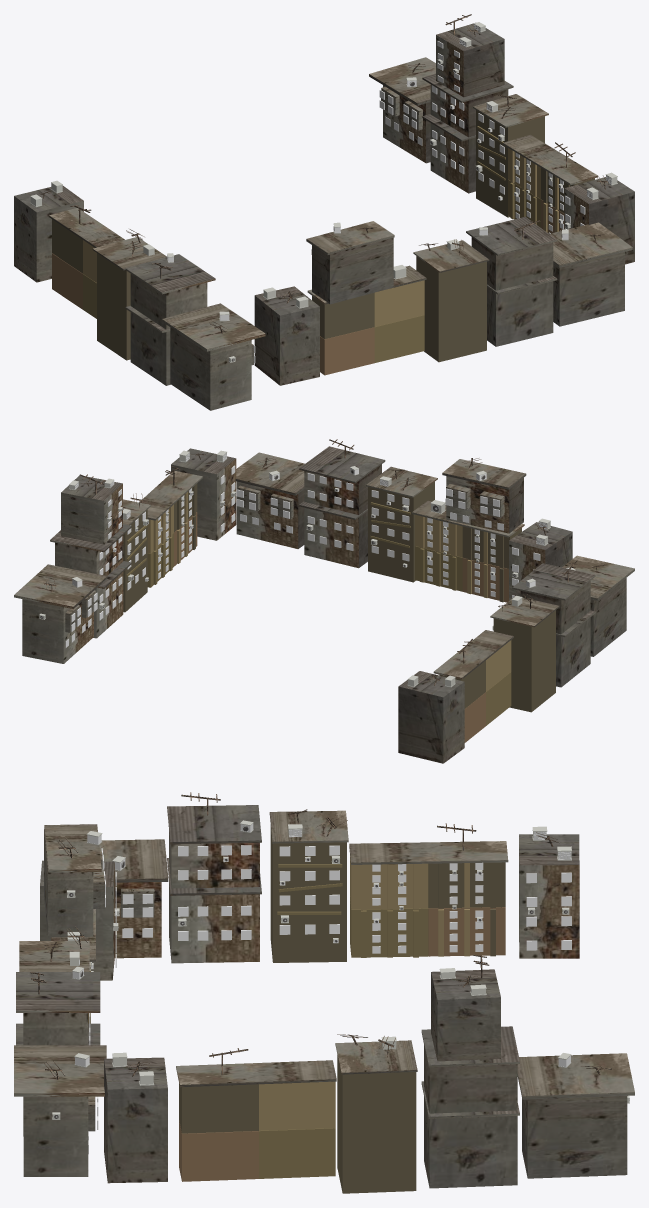
File: Buildings.glb
The picture shows the model from 3 angles, top to bottom: view 1: azimuth 30°, elevation 25°; view 2: azimuth 150°, elevation 25°; view 3: azimuth 270°, elevation 25°; orthographic projection. The views are drawn at different scales.
Parts seen in each view (by area): view 1: Cube.153, Cube.070, Cube.109, Cube.179, Cube.178, Cube.015, Cube.573, Cube.528, Cube.177, Cube.354, Cube.353, Cube.176 (+22 smaller); view 2: Cube.177, Cube.153, Cube.176, Cube.070, Cube.353, Cube.528, Cube.355, Cube.178, Cube.354, Cube.015, Cube.109, Cube.513 (+24 smaller); view 3: Cube.354, Cube.352, Cube.178, Cube.355, Cube.353, Cube.176, Cube.177, Cube.528, Cube.015, Cube.513, Cube.018, Cube.358 (+24 smaller).
Part boxes in pixels (x1,y1,x2,y2): Cube.153: [471, 237, 553, 346]; Cube.070: [416, 256, 486, 362]; Cube.109: [254, 286, 319, 385]; Cube.179: [170, 327, 251, 410]; Cube.178: [130, 274, 207, 385]; Cube.015: [553, 252, 624, 326]; Cube.573: [312, 237, 393, 304]; Cube.528: [436, 22, 504, 97]; Cube.177: [14, 185, 83, 282]; Cube.354: [430, 84, 508, 193]; Cube.353: [564, 177, 634, 264]; Cube.176: [97, 253, 130, 360]; Cube.177: [398, 671, 464, 763]; Cube.153: [304, 464, 381, 568]; Cube.176: [493, 610, 555, 712]; Cube.070: [368, 482, 434, 582]; Cube.353: [171, 448, 236, 540]; Cube.528: [61, 475, 122, 544]; Cube.355: [22, 599, 93, 663]; Cube.178: [520, 581, 590, 687]; Cube.354: [55, 535, 123, 638]; Cube.015: [236, 481, 304, 548]; Cube.109: [509, 522, 572, 600]; Cube.513: [14, 564, 107, 608]; Cube.354: [424, 1045, 517, 1188]; Cube.352: [337, 1055, 416, 1193]; Cube.178: [169, 830, 259, 963]; Cube.355: [522, 1096, 627, 1178]; Cube.353: [104, 1057, 167, 1183]; Cube.176: [270, 826, 346, 962]; Cube.177: [519, 834, 579, 958]; Cube.528: [431, 969, 500, 1061]; Cube.015: [23, 1096, 88, 1176]; Cube.513: [517, 1053, 634, 1099]; Cube.018: [14, 1045, 106, 1096]; Cube.358: [179, 1120, 258, 1181].
Size of the model in its own units: 104 by 40.46 by 92.22.
Materials: 10 (3 with a texture image).
